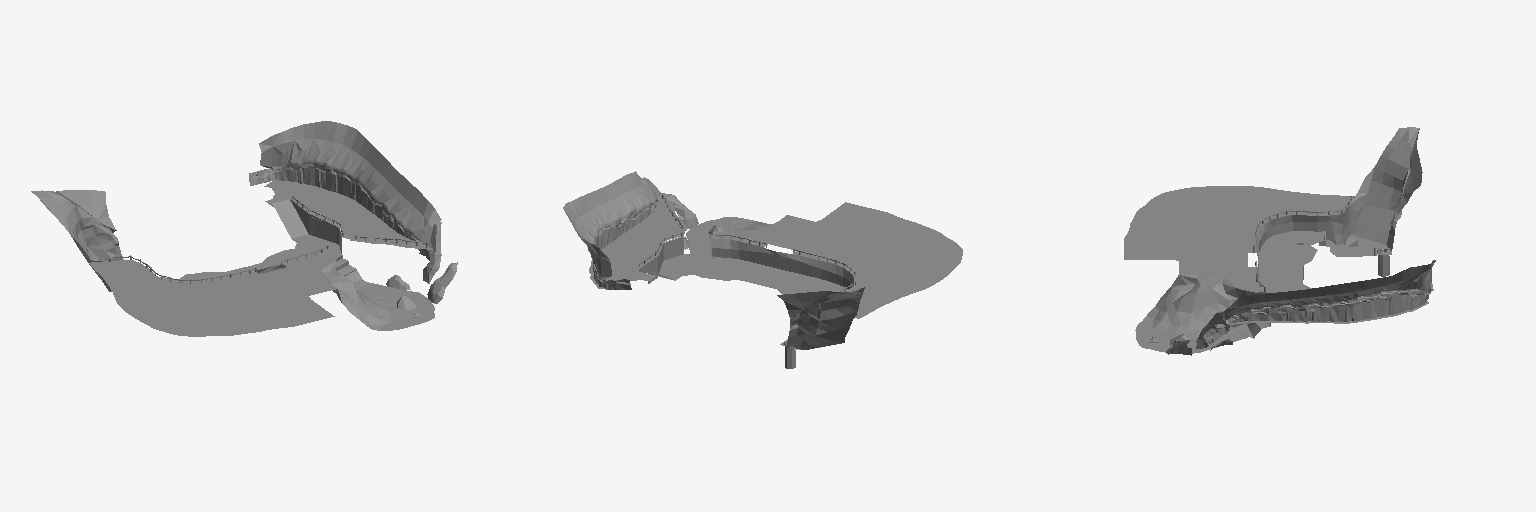
Rendered from Castle_Grass.obj.
3 views of the same model, side by side, from view 1: azimuth 30°, elevation 25°; view 2: azimuth 150°, elevation 25°; view 3: azimuth 270°, elevation 25° (orthographic).
Visible parts, largest first — view 1: Grass; view 2: Grass; view 3: Grass.
Boxes of the visible parts, <box> form: Grass: <box>31,121,457,336</box>; Grass: <box>563,171,962,368</box>; Grass: <box>1124,127,1435,355</box>.
Bounding box in the file's own units: 112 × 37.17 × 96.33.